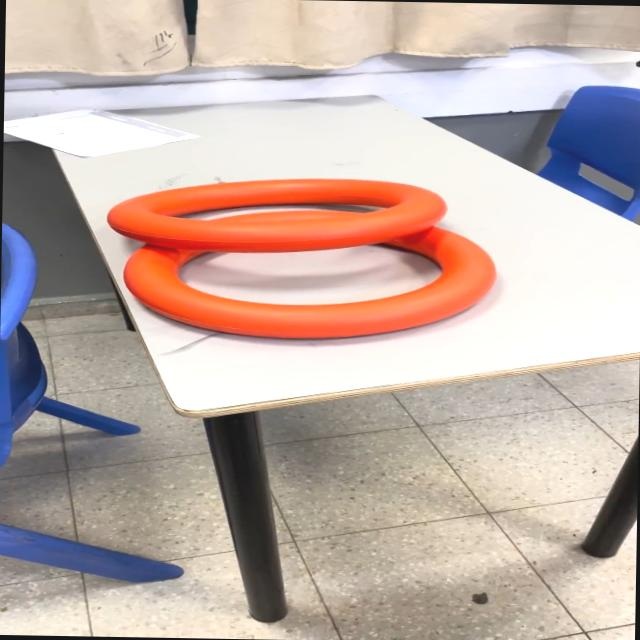note: (120, 206, 501, 344), (104, 172, 448, 256)
